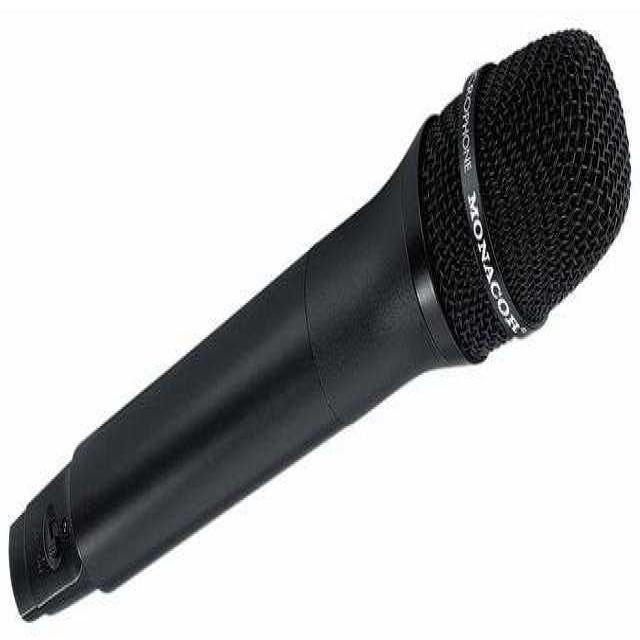microphone: (9, 21, 626, 618)
